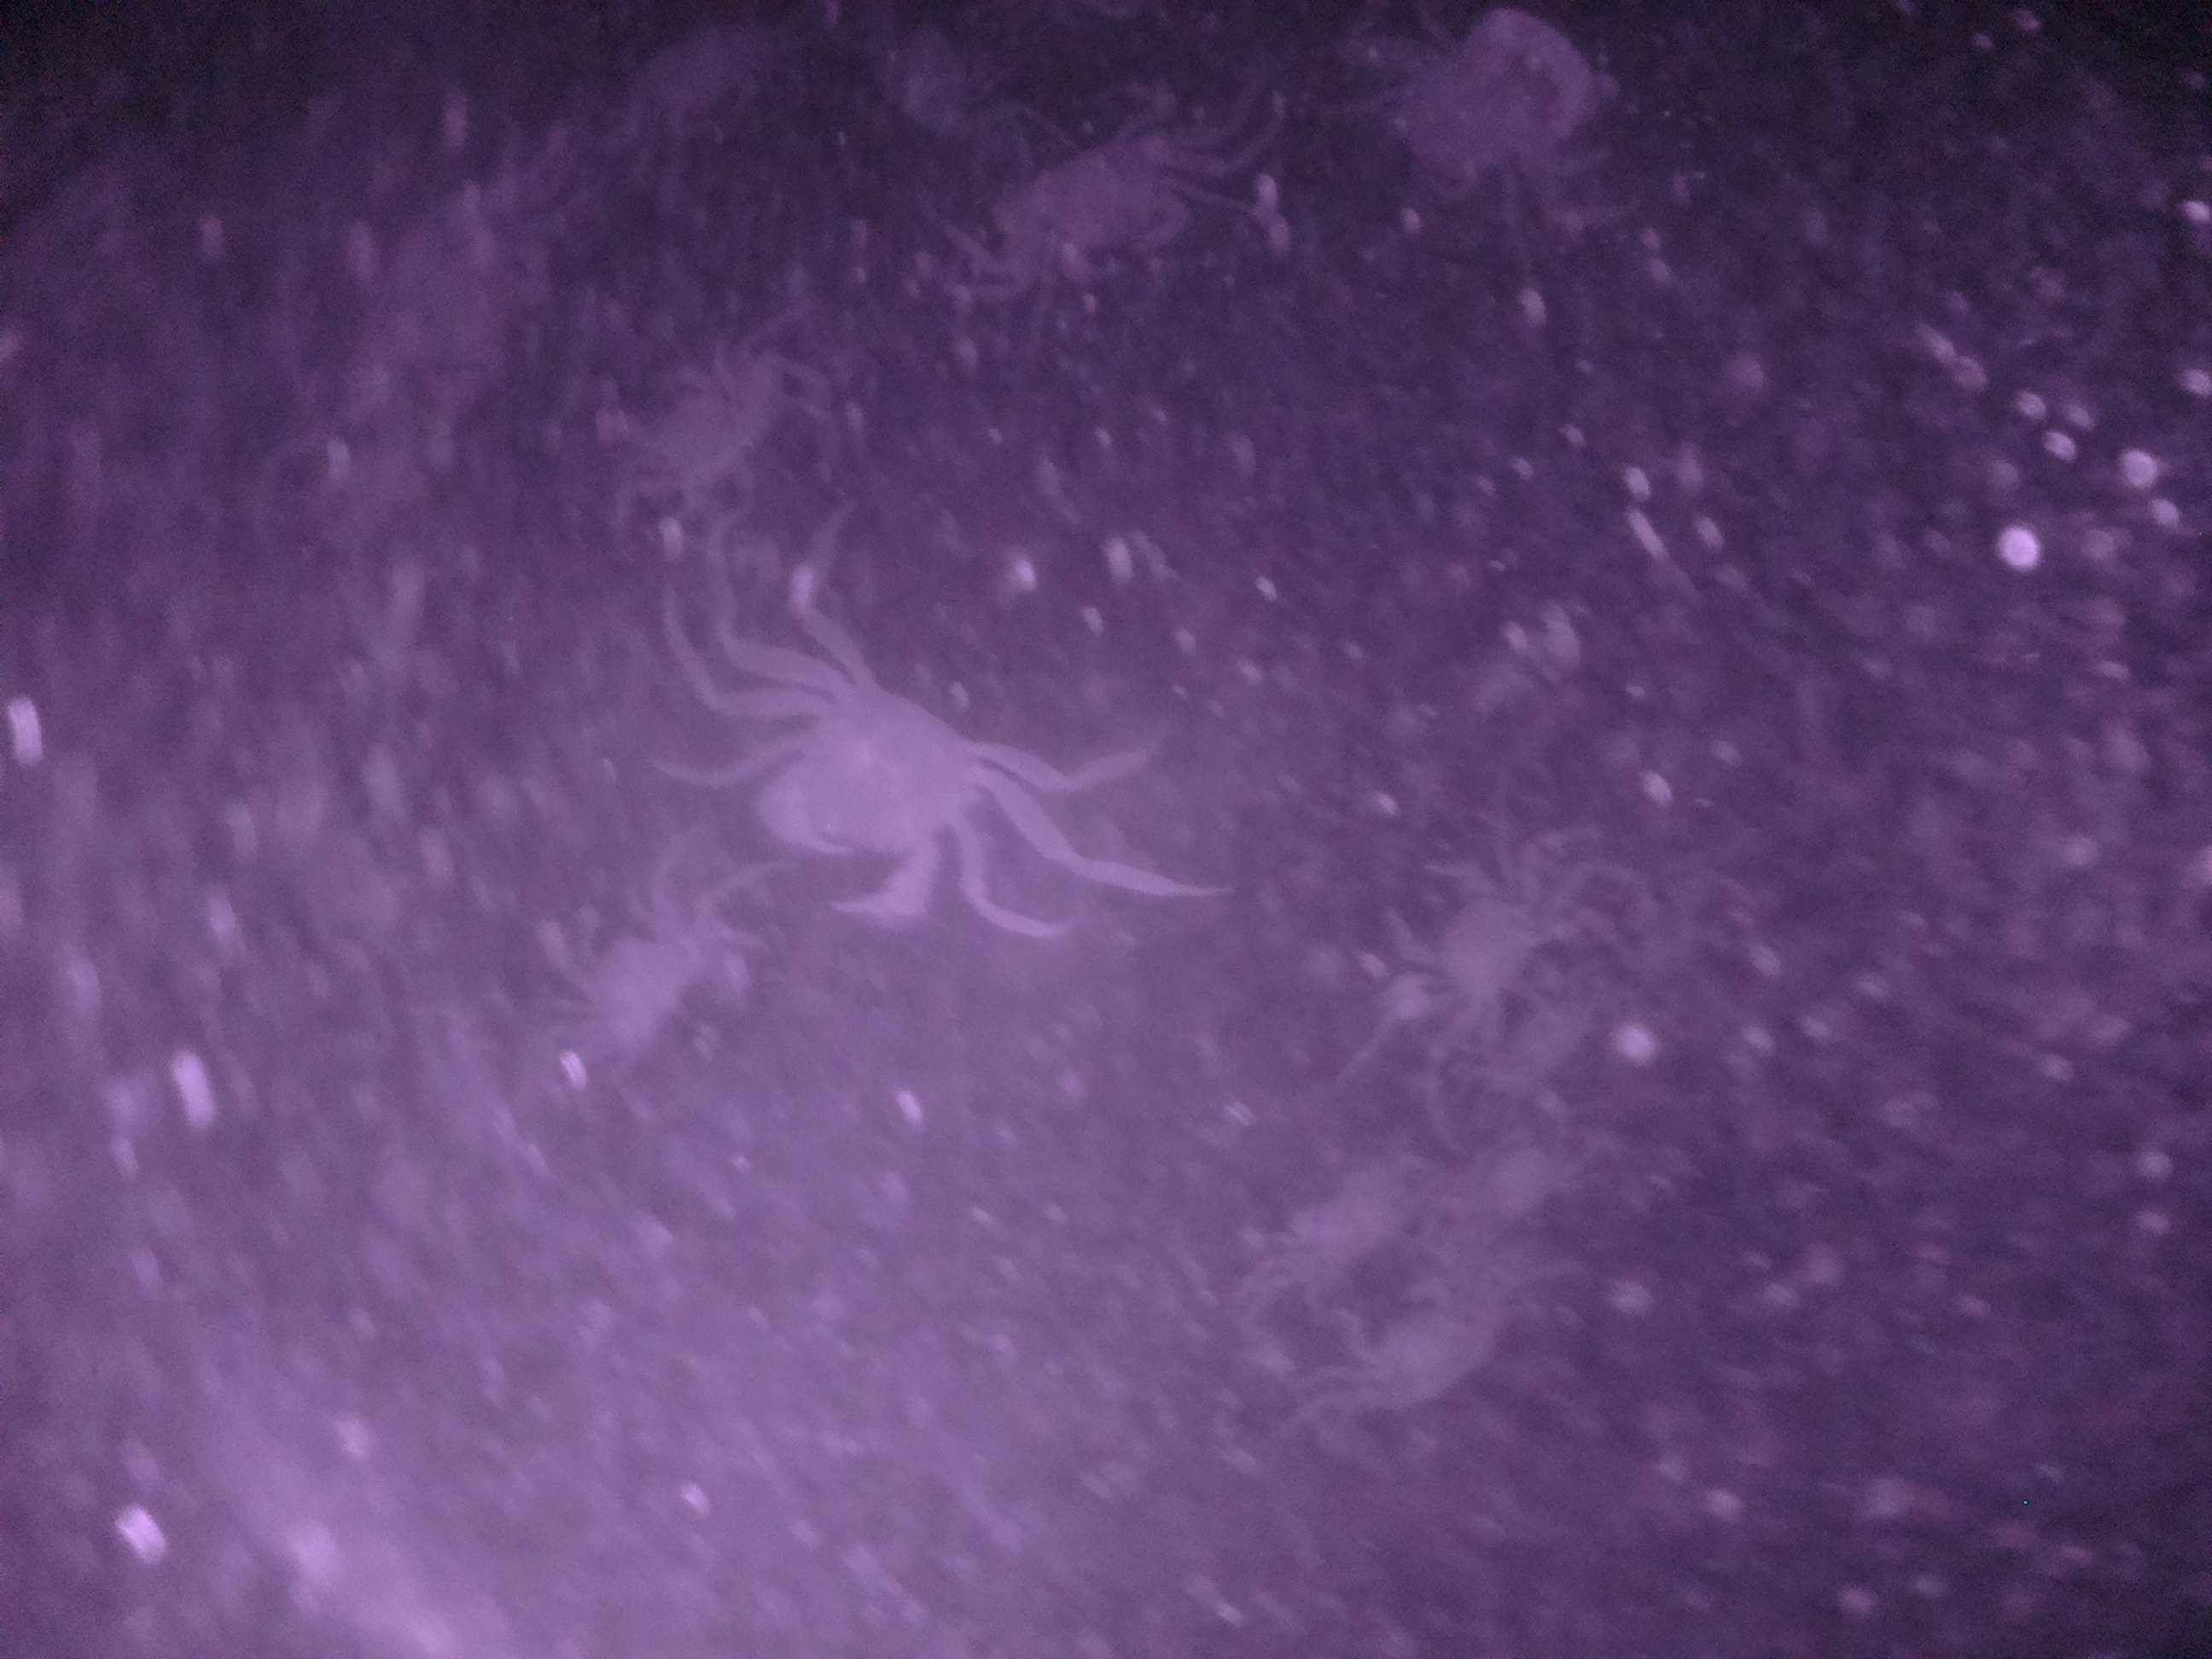Crab: (998, 106, 1235, 312), (1372, 835, 1587, 1054)
